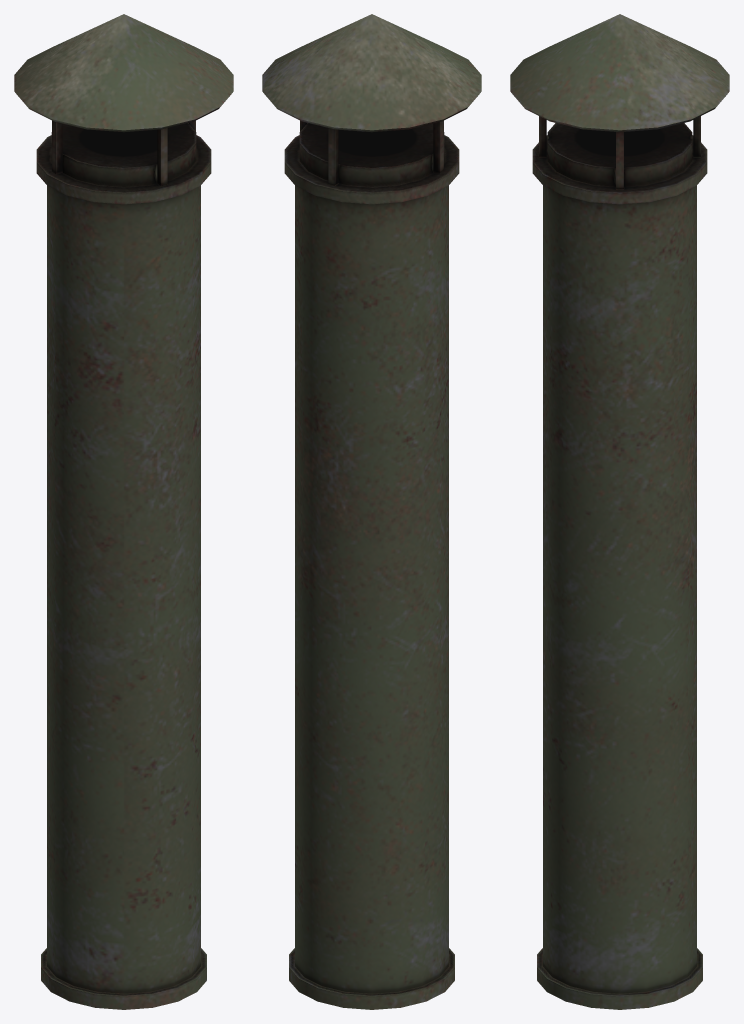
Rendered from Vent_10.fbx.
3 views of the same model, side by side, from view 1: azimuth 30°, elevation 25°; view 2: azimuth 150°, elevation 25°; view 3: azimuth 270°, elevation 25° (orthographic).
Visible parts, largest first — view 1: Vent_10; view 2: Vent_10; view 3: Vent_10.
Part boxes in pixels (<box>): Vent_10: <box>14,14,233,1009</box>; Vent_10: <box>262,14,481,1009</box>; Vent_10: <box>510,14,729,1009</box>.
Bounding box in the file's own units: 57.88 × 275 × 57.01.
